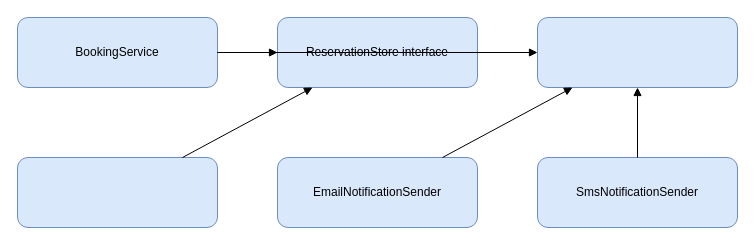
The diagram is 755 pixels wide and 245 high, and some of its shapes have lost their labels. The shapes that lost their labels are listed below. From the top down, each one's box as (x1, y1, x2, y2) in pixels, then its label:
(536, 16, 738, 88): NotificationSender interface
(16, 156, 218, 228): InMemoryReservationStore
